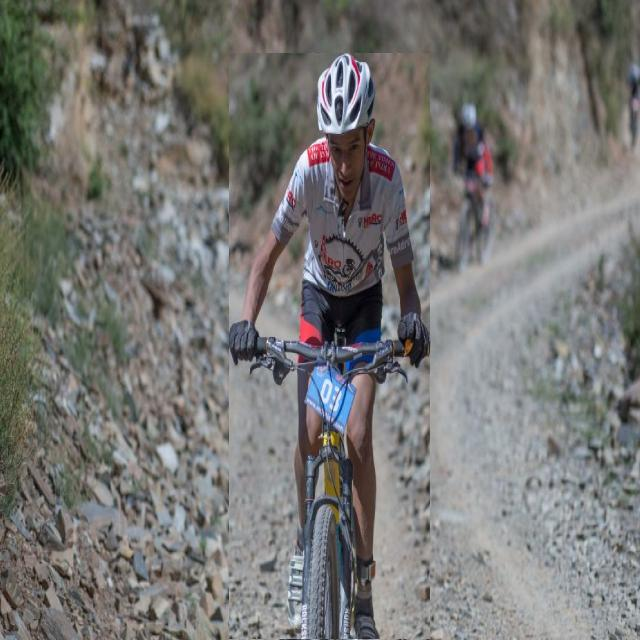bicycle: (229, 54, 430, 639)
